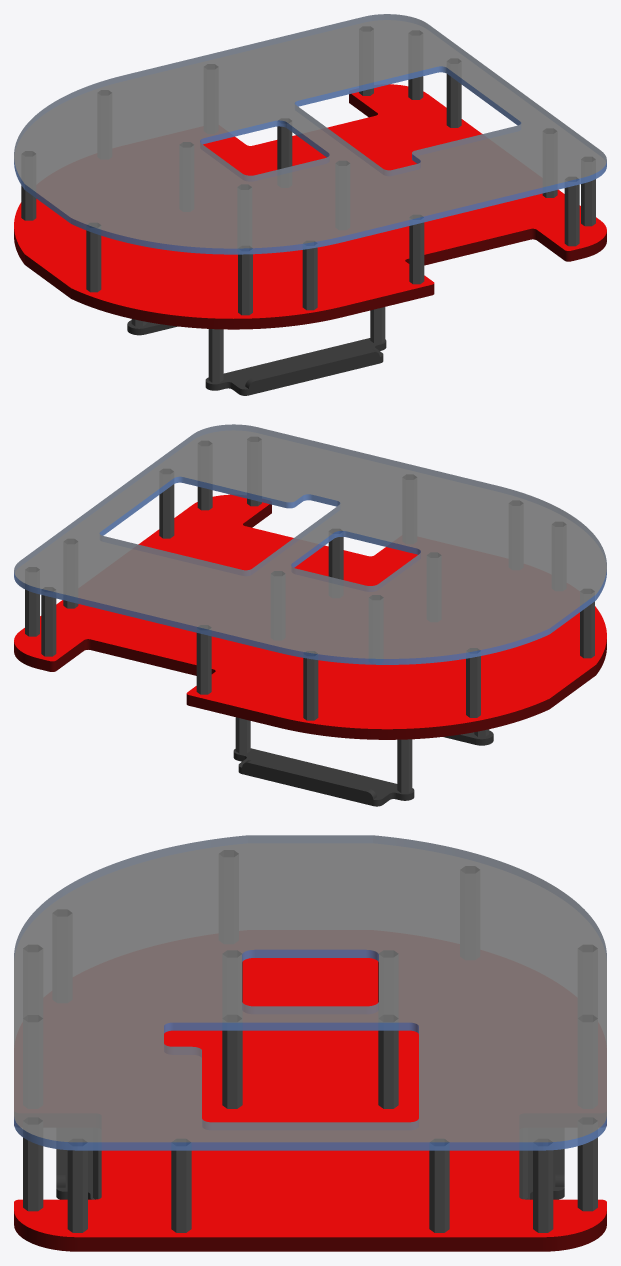
Rendered from caretta.dae.
The picture shows the model from 3 angles, top to bottom: view 1: azimuth 30°, elevation 25°; view 2: azimuth 150°, elevation 25°; view 3: azimuth 270°, elevation 25°; orthographic projection. The views are drawn at different scales.
Parts seen in each view (by area): view 1: instance_0 (×19); view 2: instance_0 (×18); view 3: instance_0 (×17).
Part boxes in pixels (x1=…): instance_0 (×19): x1=14, y1=14, x2=606, y2=395; instance_0 (×18): x1=14, y1=424, x2=606, y2=806; instance_0 (×17): x1=14, y1=835, x2=606, y2=1251.
Size of the model in its own units: 8.98 by 7.32 by 2.79.
